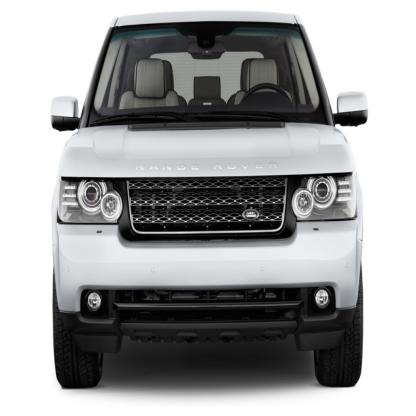Vehicle: (44, 8, 370, 387)
